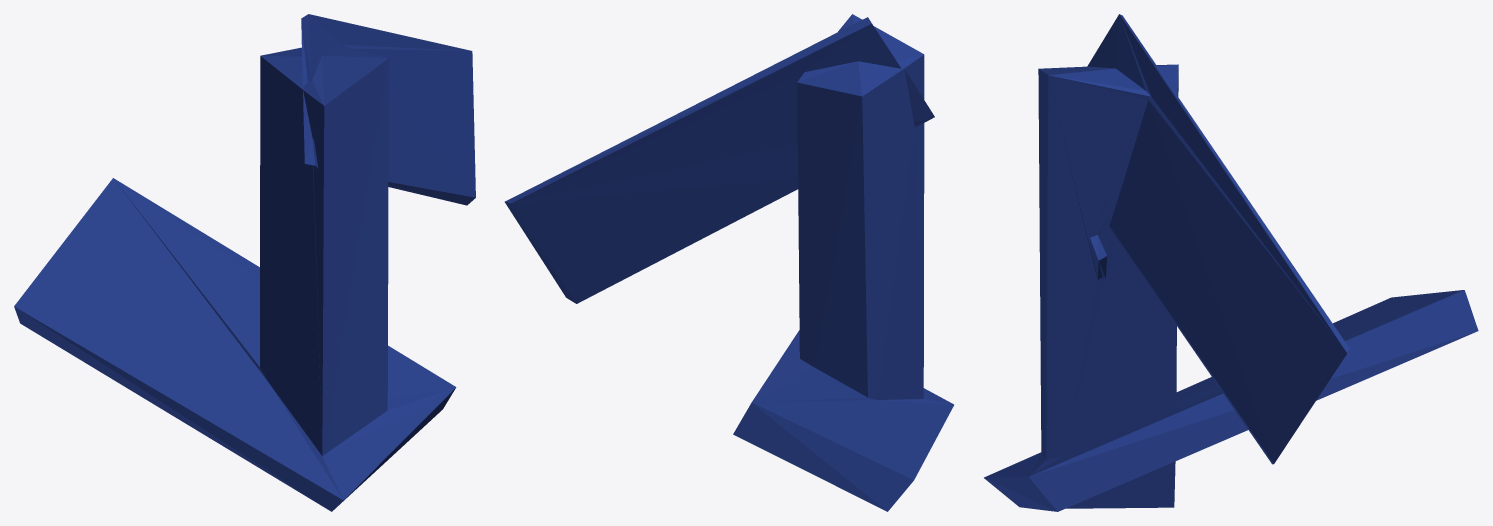
3 views of the same model, side by side, from view 1: azimuth 30°, elevation 25°; view 2: azimuth 150°, elevation 25°; view 3: azimuth 270°, elevation 25° (orthographic). The views are drawn at different scales.
Visible parts, largest first — view 1: 878_Cube.3547; view 2: 878_Cube.3547; view 3: 878_Cube.3547.
Part boxes in pixels (x1=…): 878_Cube.3547: x1=14, y1=14, x2=475, y2=511; 878_Cube.3547: x1=504, y1=14, x2=953, y2=511; 878_Cube.3547: x1=984, y1=14, x2=1478, y2=511.
Bounding box in the file's own units: 14.54 × 14.56 × 12.93.
